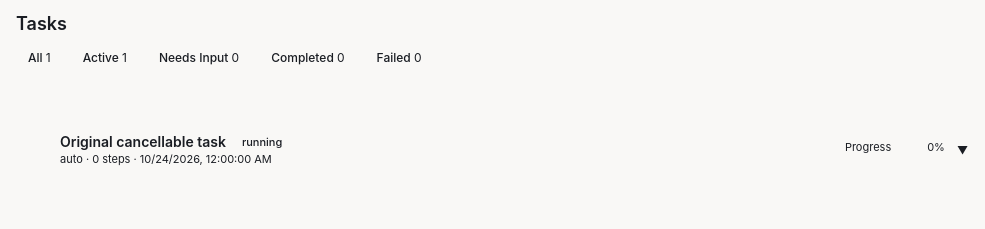
Test: does not publish an old action acknowledgement after a Controller change
The image size is (985, 229).
What coordinates should you click on to do the following:
click the text "Original cancellable task"
I would click on:
 (143, 142)
Its box is 60,133 -> 226,150.
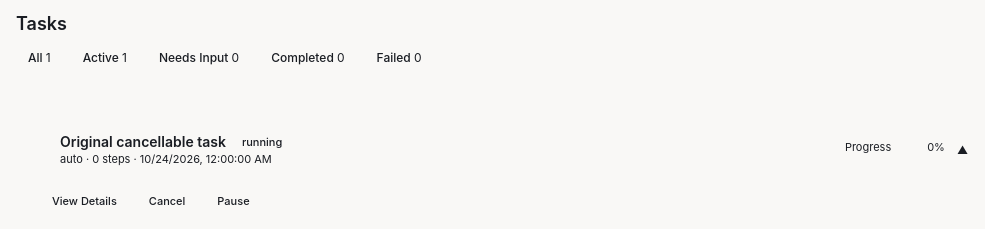
What coordinates should you click on to do the following:
click the button "Cancel"
I would click on:
 (167, 201)
Its box is 137,190 -> 197,212.
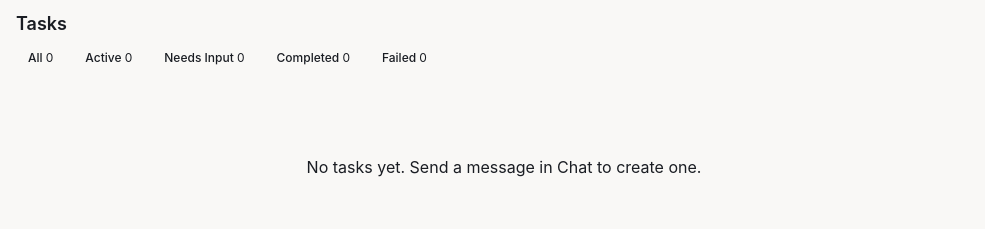
Result: the text "Original cancellable task" is gone
